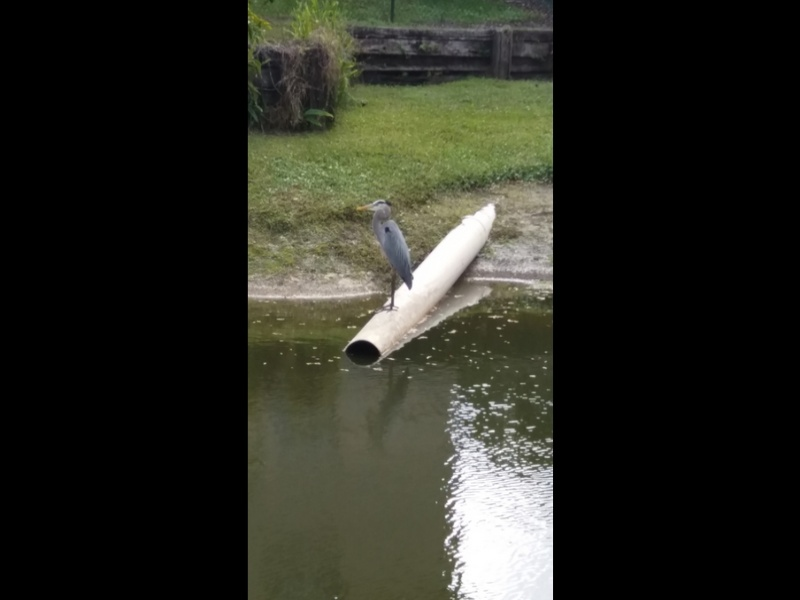heron: (353, 197, 420, 312)
